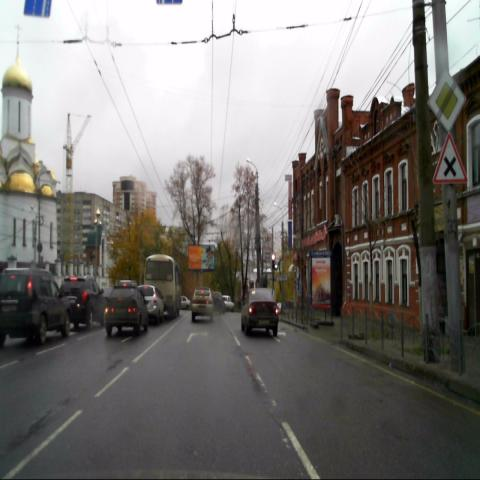1_6: (434, 131, 468, 186)
